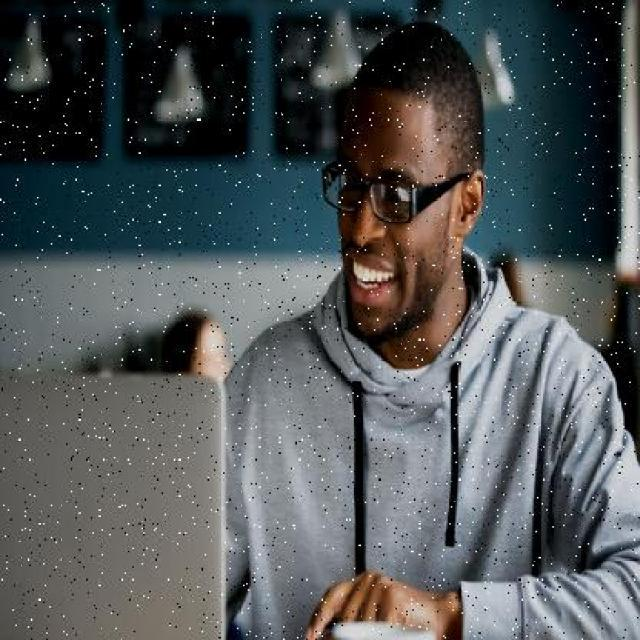glasses: (312, 147, 456, 233)
